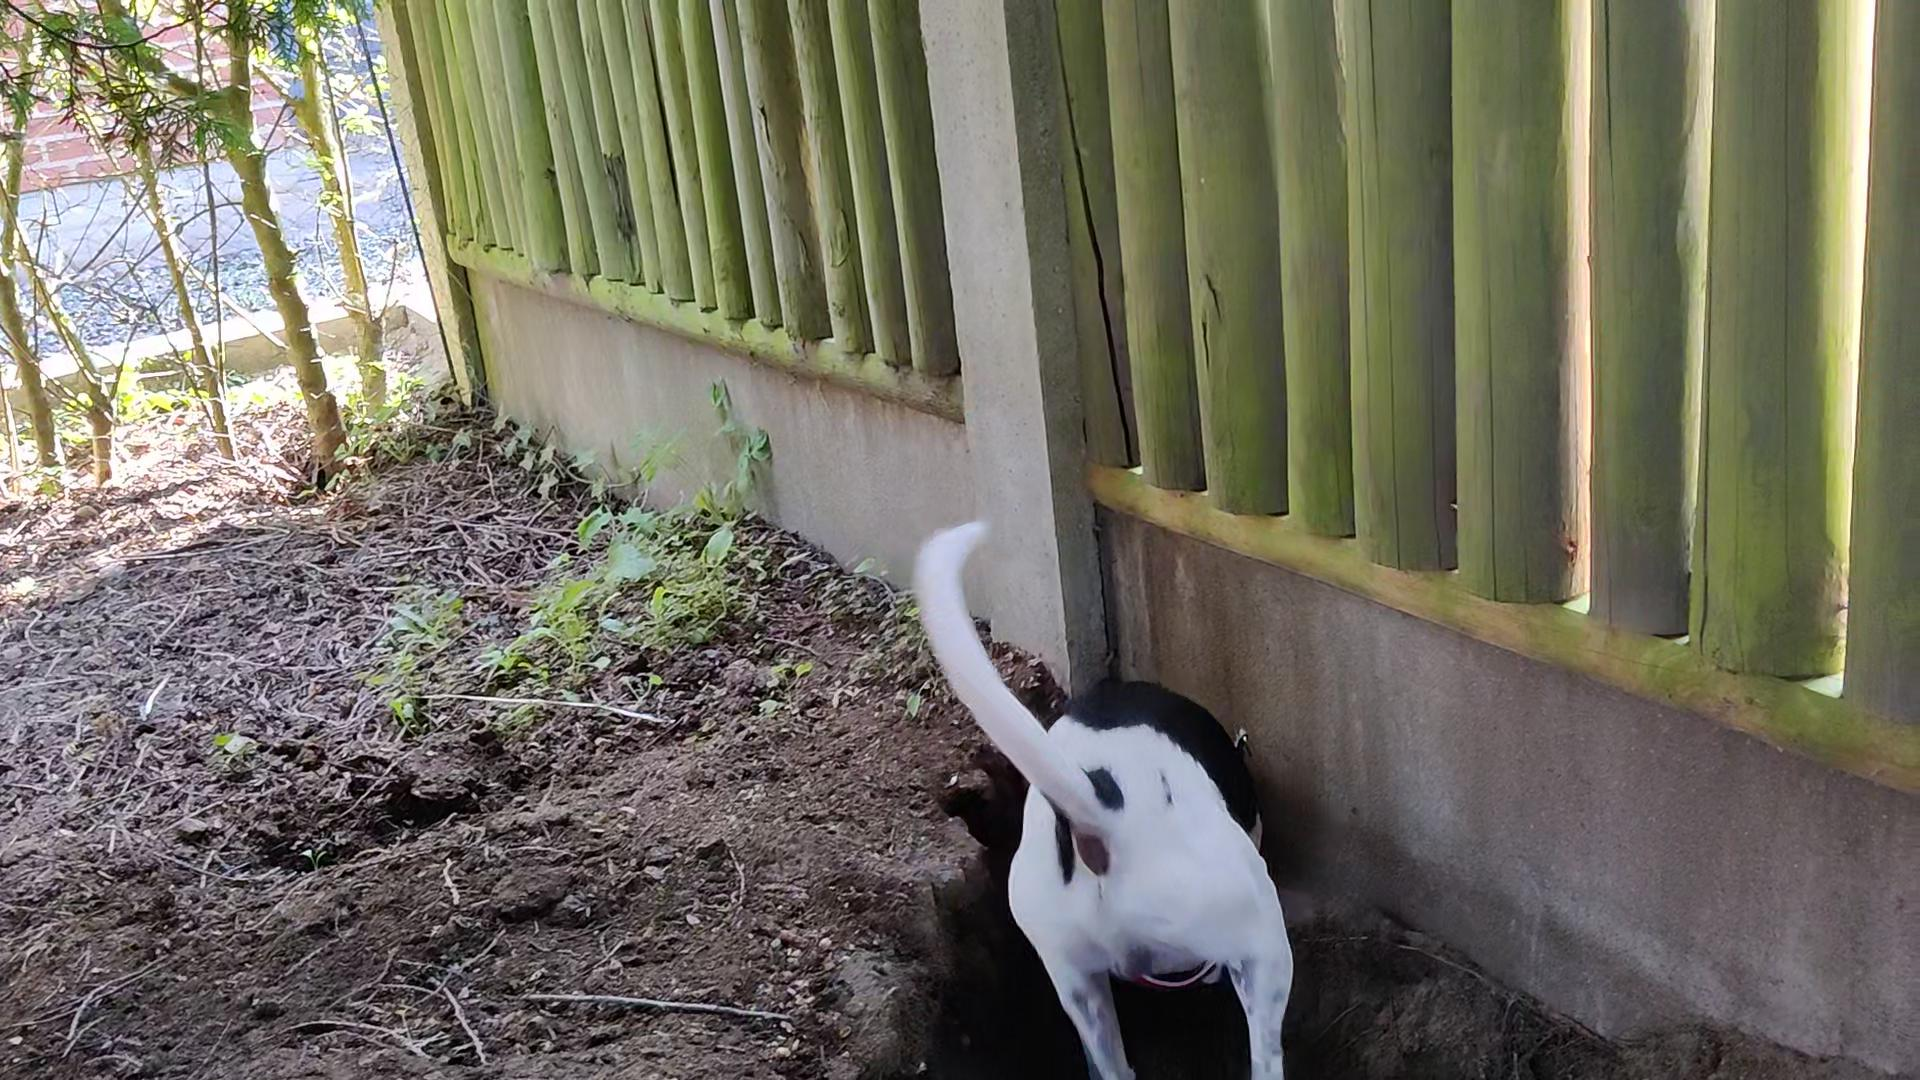Dog: (903, 481, 1315, 1079)
